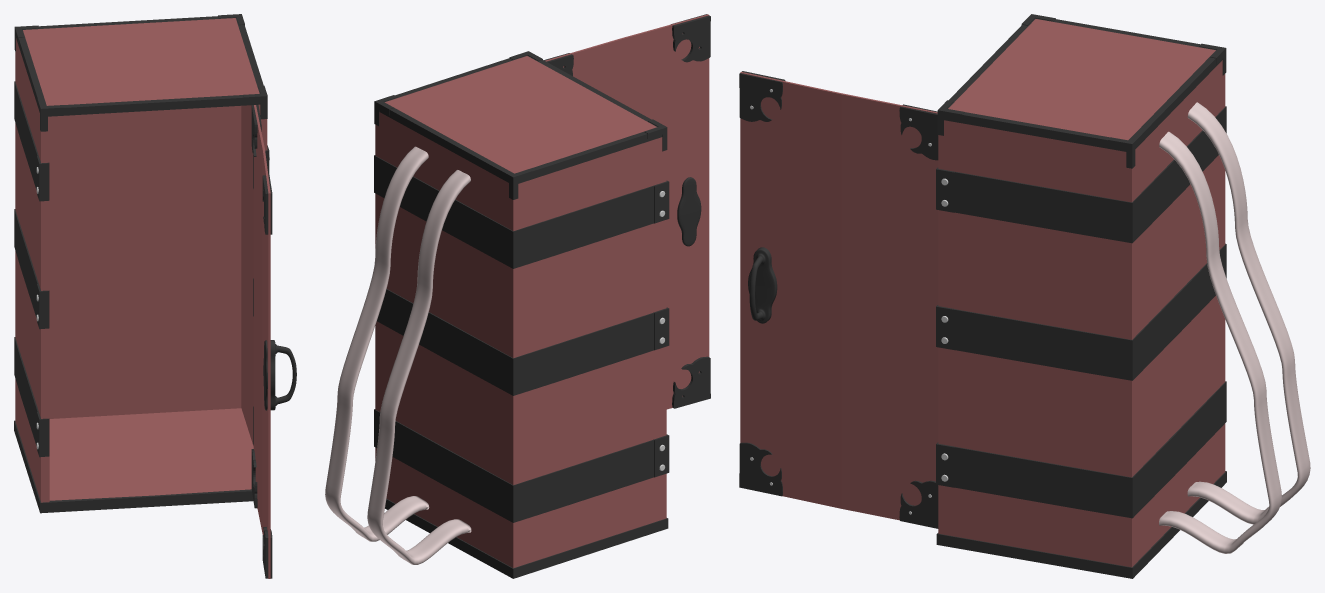
The picture shows the model from 3 angles, left to right: view 1: azimuth 30°, elevation 25°; view 2: azimuth 150°, elevation 25°; view 3: azimuth 270°, elevation 25°; orthographic projection. The views are drawn at different scales.
Visible parts, largest first — view 1: Caixa_wood; view 2: Caixa_wood; view 3: Caixa_wood.
Boxes of the visible parts, x1,y1,x2,y2 form: Caixa_wood: (14, 14, 296, 578); Caixa_wood: (325, 14, 710, 578); Caixa_wood: (739, 14, 1310, 578).
Bounding box in the file's own units: 2.53 × 3.91 × 4.66.
